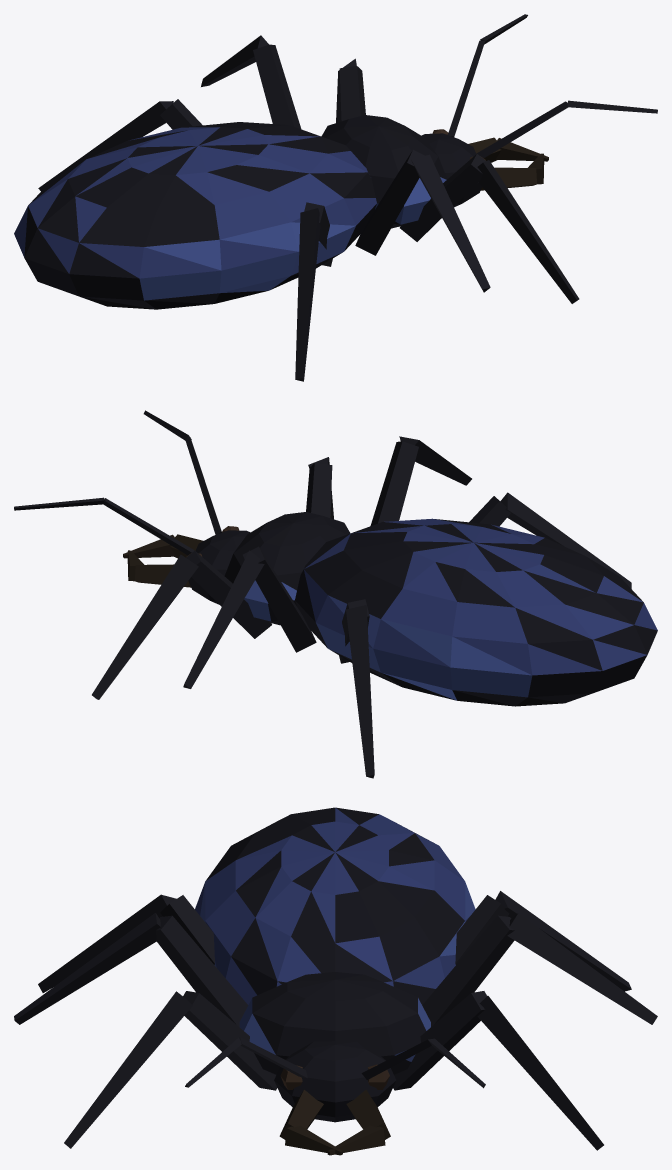
The model's file is bosses-the-ground-beetle-dazed.glb.
The picture shows the model from 3 angles, top to bottom: view 1: azimuth 30°, elevation 25°; view 2: azimuth 150°, elevation 25°; view 3: azimuth 270°, elevation 25°; orthographic projection. The views are drawn at different scales.
Bounding box in the file's own units: 17.03 × 4.47 × 14.73.
